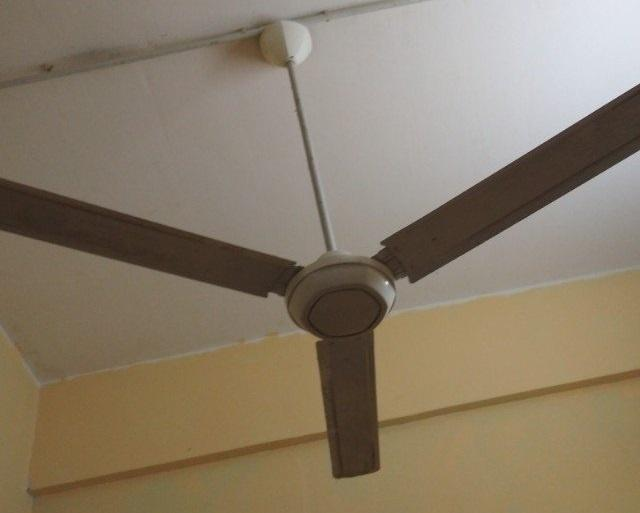fan: (0, 52, 640, 491)
